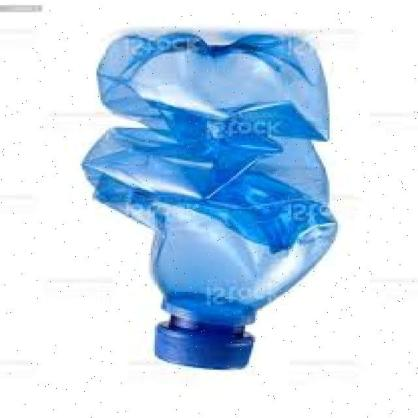bottle: (80, 31, 340, 384)
cap: (145, 320, 260, 374)
